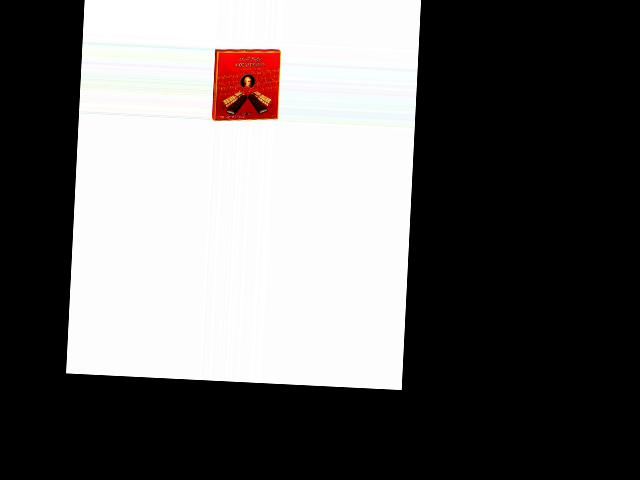chocolate: (211, 47, 282, 126)
